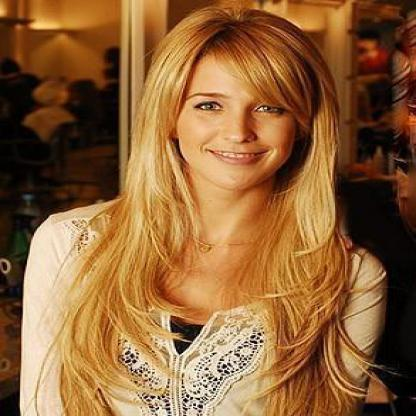long-hair: (104, 189, 352, 256)
